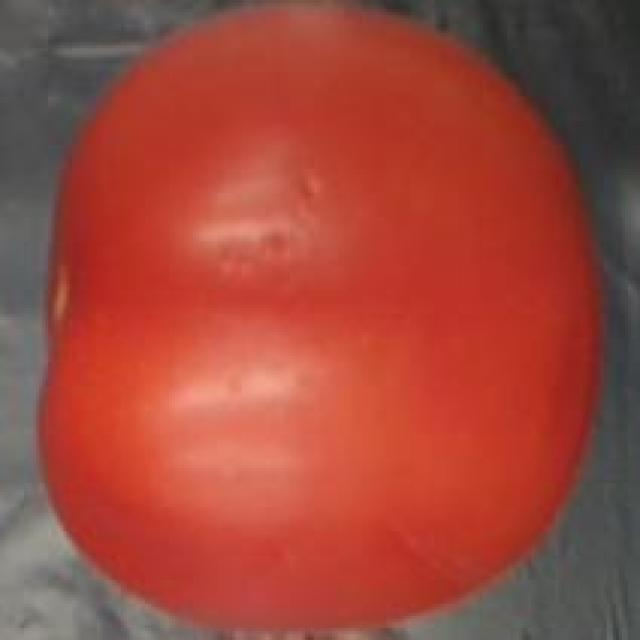ripe tomato: (30, 6, 610, 640)
